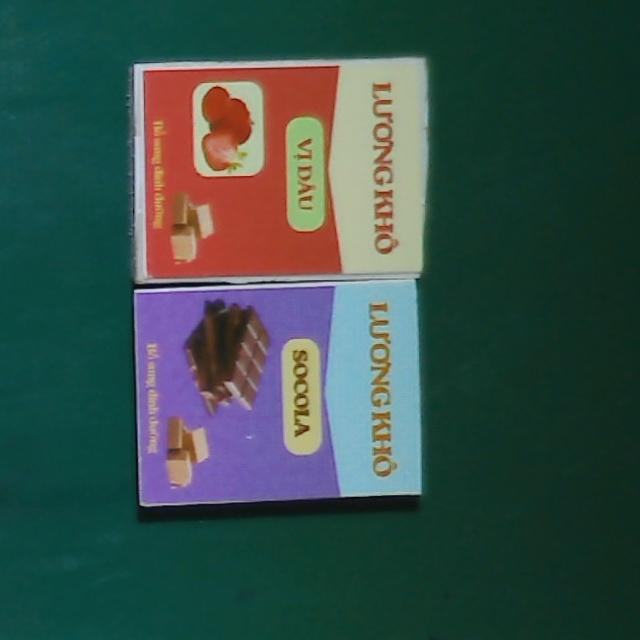dau: (132, 56, 432, 282)
socola: (134, 280, 422, 507)
